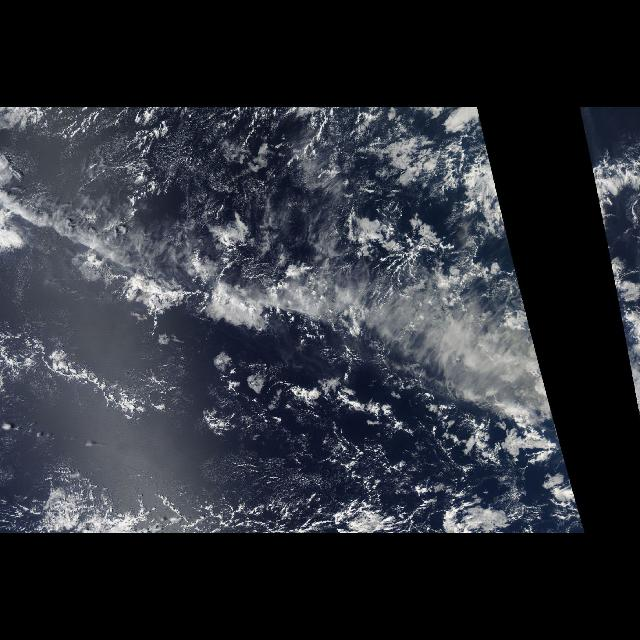Fish: (1, 331, 190, 451)
Sugar: (96, 120, 292, 212)
